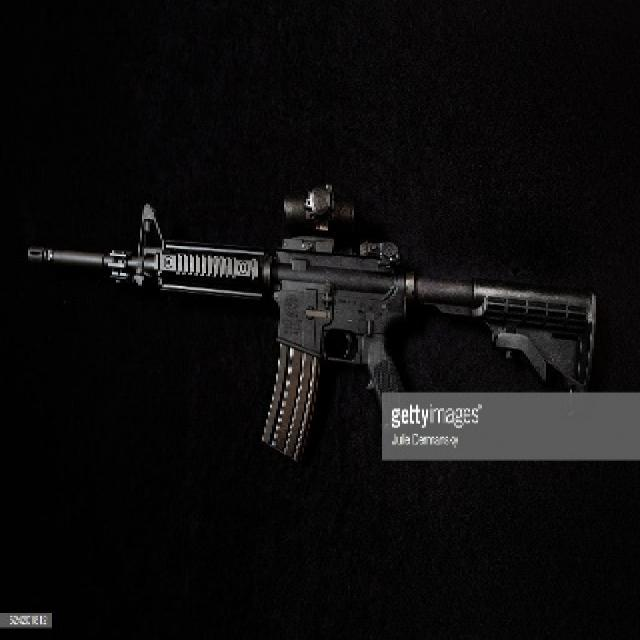weapon: (18, 166, 608, 460)
